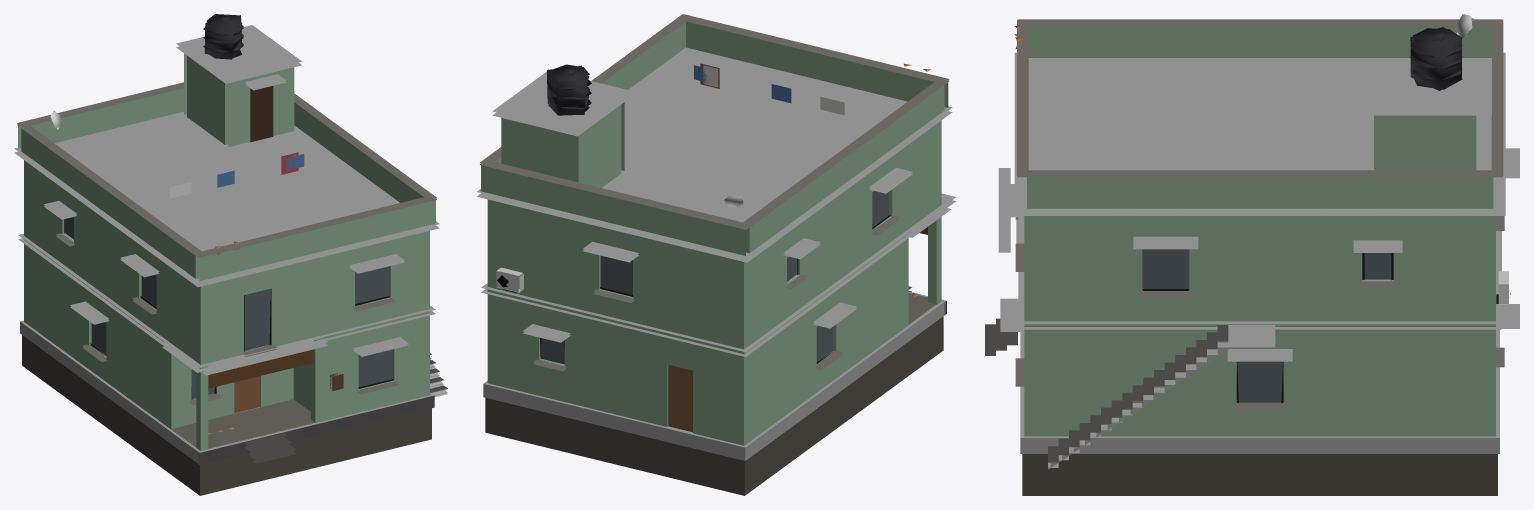
The model's file is tn_house_9x12_2_far.glb.
3 renders of one model, left to right at view 1: azimuth 30°, elevation 25°; view 2: azimuth 150°, elevation 25°; view 3: azimuth 270°, elevation 25°, orthographic. The views are drawn at different scales.
Parts seen in each view (by area): view 1: tn_house_9x12_2; view 2: tn_house_9x12_2; view 3: tn_house_9x12_2.
Part boxes in pixels (x1=…): tn_house_9x12_2: x1=14, y1=14, x2=447, y2=495; tn_house_9x12_2: x1=477, y1=14, x2=955, y2=495; tn_house_9x12_2: x1=985, y1=14, x2=1519, y2=495.
Bounding box in the file's own units: 10.66 × 12 × 13.61.
